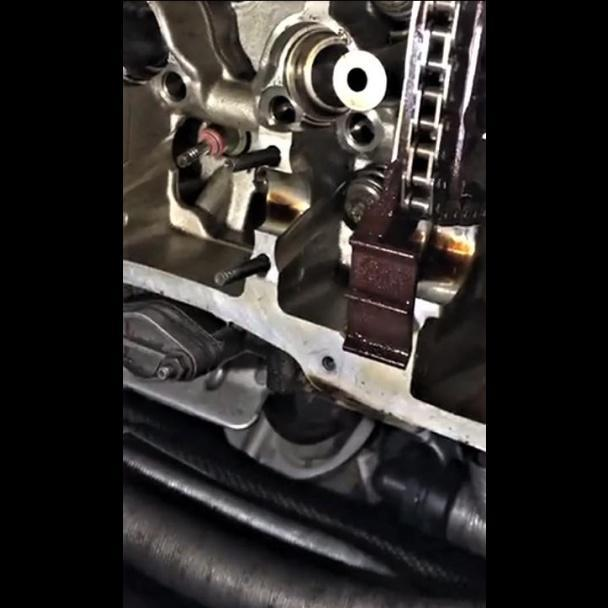hole: (320, 354, 336, 370)
